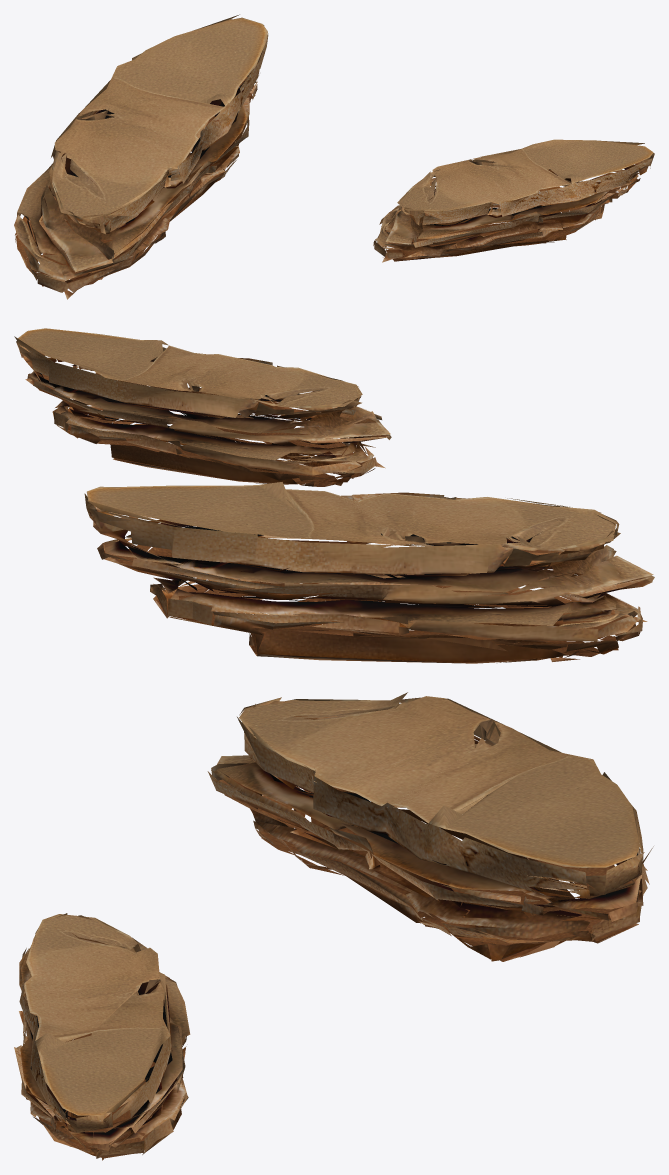
File: desert_ledge_b_pair_lod1.glb
3 views of the same model, one above another, from view 1: azimuth 30°, elevation 25°; view 2: azimuth 150°, elevation 25°; view 3: azimuth 270°, elevation 25° (orthographic). The views are drawn at different scales.
Visible parts, largest first — view 1: desert_ledge_b_pair.001; view 2: desert_ledge_b_pair.001; view 3: desert_ledge_b_pair.001.
Boxes of the visible parts, box(x1,y1,x2,y2) form: desert_ledge_b_pair.001: box(14, 14, 654, 299); desert_ledge_b_pair.001: box(14, 328, 654, 663); desert_ledge_b_pair.001: box(14, 692, 653, 1160).
Size of the model in its own units: 4.87 by 1.08 by 3.22.
Materials: 1 (1 with a texture image).
